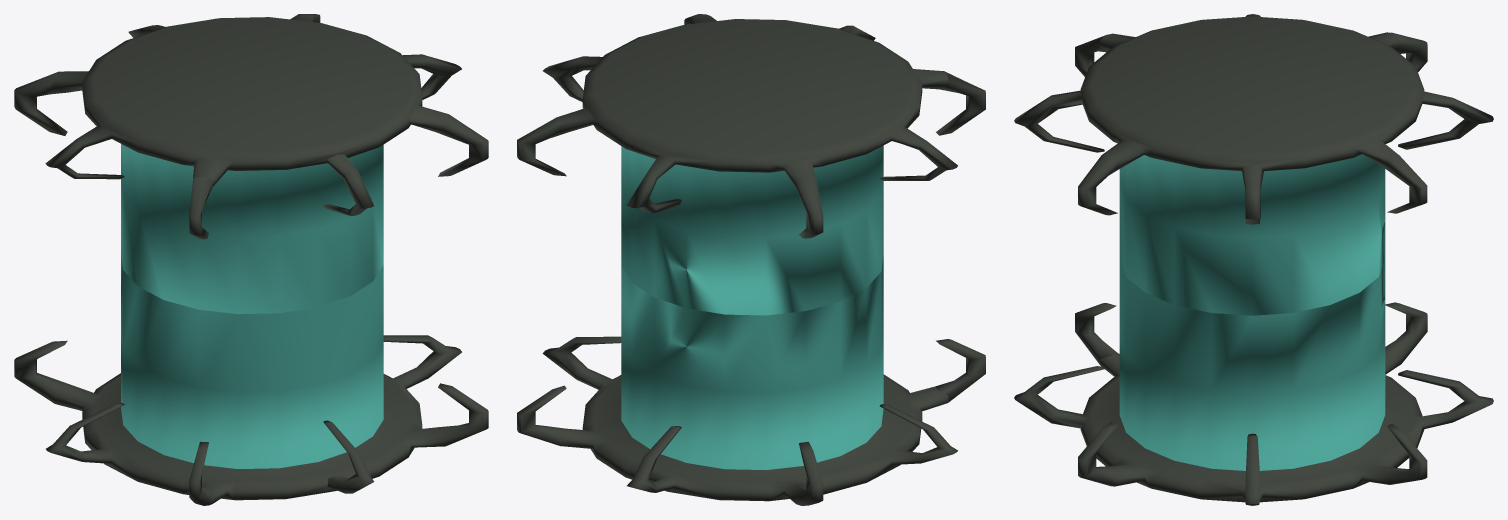
The model's file is CryoChamber_SeamMarked.fbx.
The picture shows the model from 3 angles, left to right: view 1: azimuth 30°, elevation 25°; view 2: azimuth 150°, elevation 25°; view 3: azimuth 270°, elevation 25°; orthographic projection.
Visible parts, largest first — view 1: Cryo_Chamber; view 2: Cryo_Chamber; view 3: Cryo_Chamber.
Boxes of the visible parts, x1=… form: Cryo_Chamber: x1=14, y1=14, x2=488, y2=505; Cryo_Chamber: x1=517, y1=14, x2=985, y2=505; Cryo_Chamber: x1=1014, y1=14, x2=1493, y2=505.
Size of the model in its own units: 27.87 by 22.5 by 27.93.
